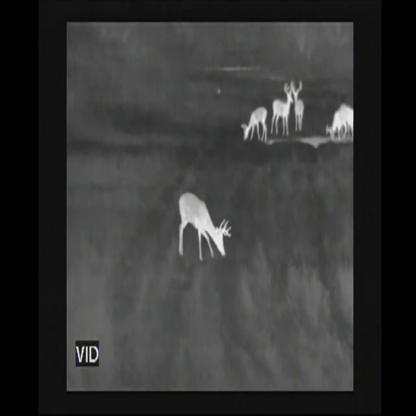rehkitze: (176, 191, 233, 266), (238, 108, 271, 146), (326, 105, 355, 146), (270, 84, 292, 138), (292, 80, 306, 137)
